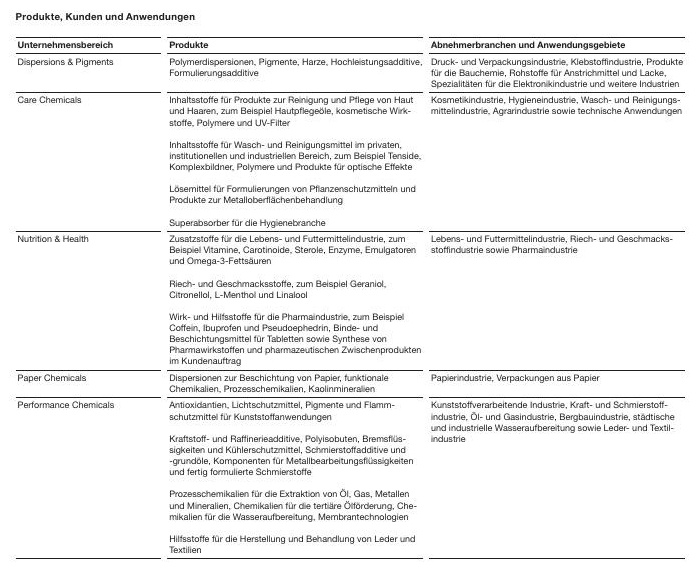table: (0, 0, 696, 570)
